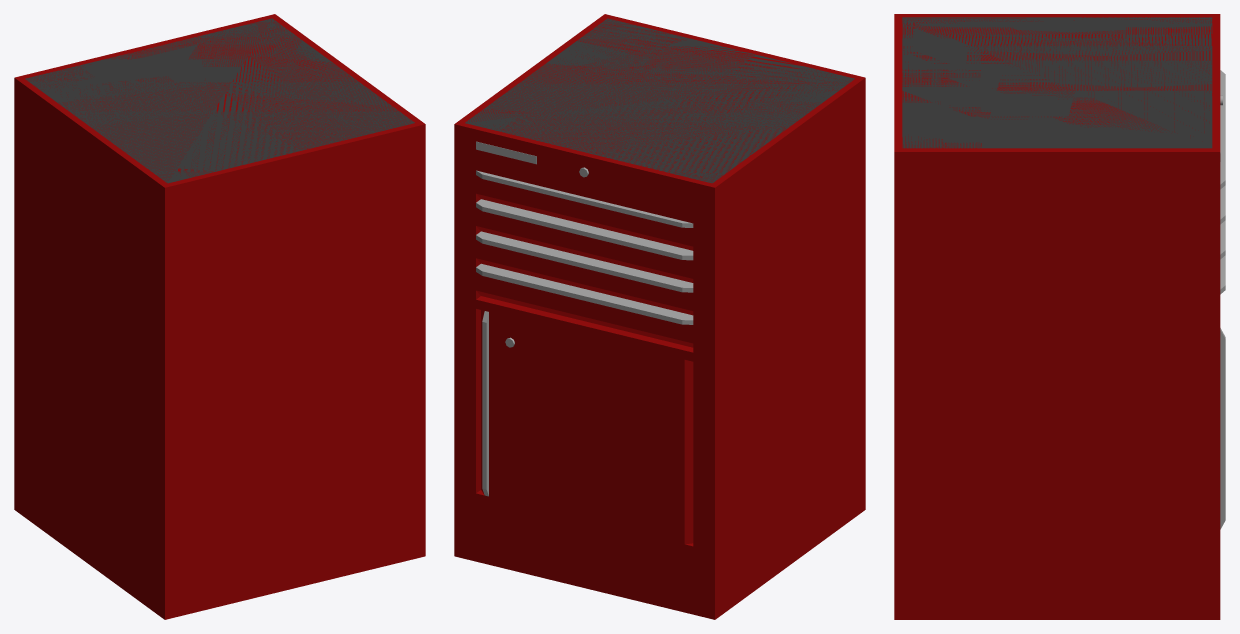
3 views of the same model, side by side, from view 1: azimuth 30°, elevation 25°; view 2: azimuth 150°, elevation 25°; view 3: azimuth 270°, elevation 25° (orthographic). The views are drawn at different scales.
Parts seen in each view (by area): view 1: mesh28_mesh28-geometry; view 2: mesh28_mesh28-geometry, mesh19_mesh19-geometry, mesh22_mesh22-geometry, mesh17_mesh17-geometry, mesh20_mesh20-geometry, mesh21_mesh21-geometry, mesh10_mesh10-geometry, mesh6_mesh6-geometry, mesh11_mesh11-geometry, mesh5_mesh5-geometry, mesh8_mesh8-geometry; view 3: mesh28_mesh28-geometry, mesh8_mesh8-geometry, mesh5_mesh5-geometry.
Boxes of the visible parts, bbox=[...] form: mesh28_mesh28-geometry: bbox=[14, 14, 425, 619]; mesh28_mesh28-geometry: bbox=[454, 14, 865, 619]; mesh19_mesh19-geometry: bbox=[489, 312, 693, 544]; mesh22_mesh22-geometry: bbox=[476, 272, 693, 347]; mesh17_mesh17-geometry: bbox=[476, 175, 693, 250]; mesh20_mesh20-geometry: bbox=[476, 207, 693, 282]; mesh21_mesh21-geometry: bbox=[476, 240, 693, 315]; mesh10_mesh10-geometry: bbox=[476, 231, 693, 292]; mesh6_mesh6-geometry: bbox=[476, 199, 693, 260]; mesh11_mesh11-geometry: bbox=[476, 263, 693, 324]; mesh5_mesh5-geometry: bbox=[476, 170, 693, 227]; mesh8_mesh8-geometry: bbox=[482, 311, 488, 496]; mesh28_mesh28-geometry: bbox=[894, 14, 1220, 619]; mesh8_mesh8-geometry: bbox=[1220, 328, 1225, 529]; mesh5_mesh5-geometry: bbox=[1220, 70, 1225, 189].
Bounding box in the file's own units: 0.4639 × 0.7499 × 0.4716.
